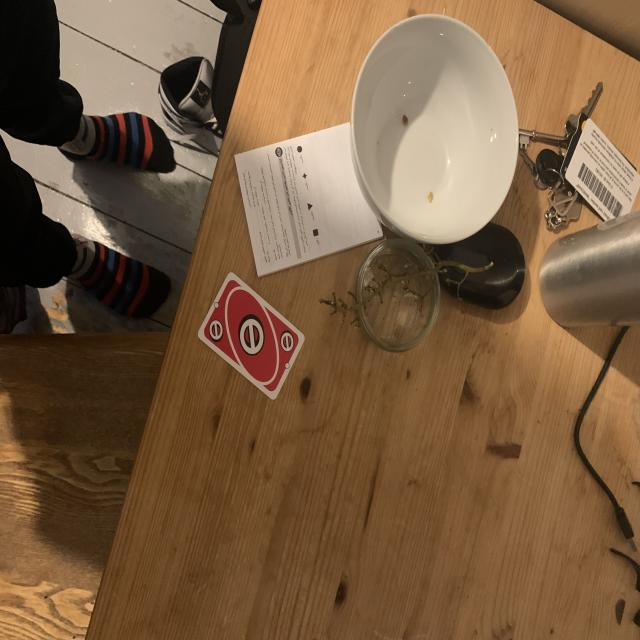lredskip-20: (206, 317, 226, 344)
